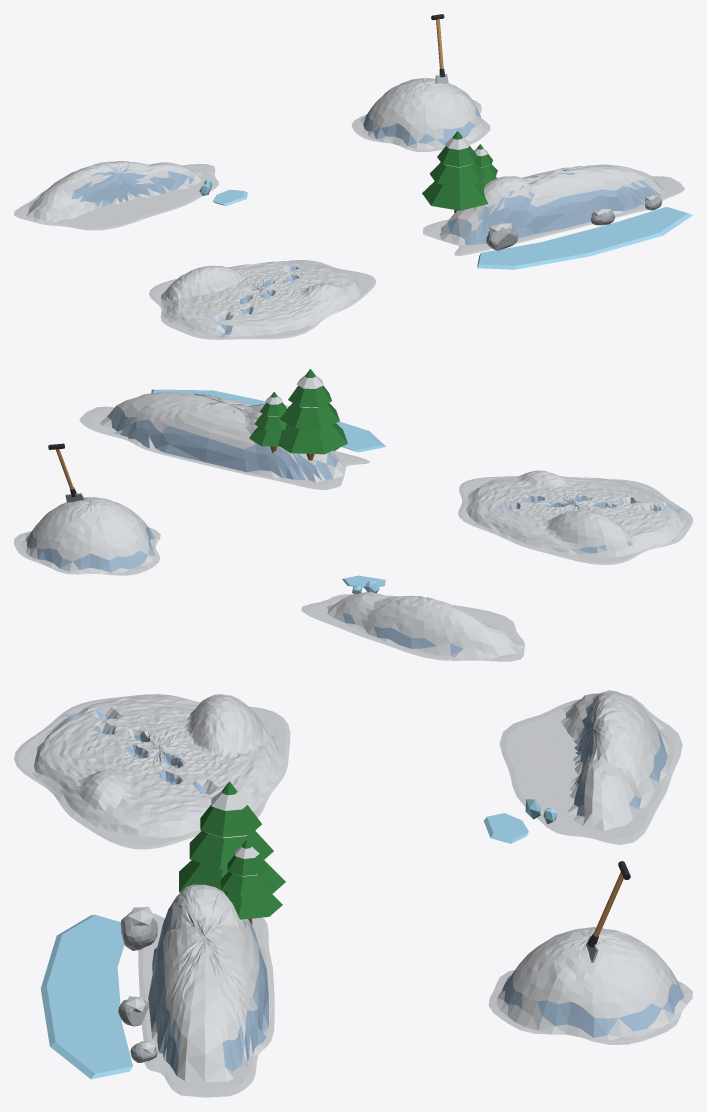
The model's file is low-poly-snow-drift-set.glb.
The picture shows the model from 3 angles, top to bottom: view 1: azimuth 30°, elevation 25°; view 2: azimuth 150°, elevation 25°; view 3: azimuth 270°, elevation 25°; orthographic projection. The views are drawn at different scales.
Visible parts, largest first — view 1: SnowPile_Footprints, SnowBank_Edge, SnowDrift_Curved, SnowMound_Shovel, Bank_FrozenPond, Bank_Pine, Bank_Stone0, Bank_PineSmall; view 2: SnowPile_Footprints, SnowBank_Edge, SnowDrift_Curved, SnowMound_Shovel, Bank_Pine, Bank_FrozenPond, Bank_PineSmall, Shovel; view 3: SnowPile_Footprints, SnowBank_Edge, SnowDrift_Curved, SnowMound_Shovel, Bank_FrozenPond, Bank_Pine, Bank_PineSmall, Drift_IcePatch, Bank_Stone0, Shovel.
Part boxes in pixels (x1,y1,x2,y2): SnowPile_Footprints: (149, 260, 375, 339); SnowBank_Edge: (423, 164, 684, 255); SnowDrift_Curved: (14, 161, 218, 230); SnowMound_Shovel: (351, 78, 490, 151); Bank_FrozenPond: (477, 207, 692, 269); Bank_Pine: (422, 131, 487, 213); Bank_Stone0: (486, 227, 517, 250); Bank_PineSmall: (474, 144, 497, 184); SnowPile_Footprints: (458, 470, 692, 564); SnowBank_Edge: (79, 392, 370, 489); SnowDrift_Curved: (301, 592, 524, 661); SnowMound_Shovel: (14, 497, 160, 575); Bank_Pine: (278, 369, 347, 460); Bank_FrozenPond: (151, 389, 385, 452); Bank_PineSmall: (249, 391, 286, 452); Shovel: (48, 443, 84, 502); SnowPile_Footprints: (14, 694, 290, 849); SnowBank_Edge: (138, 884, 274, 1097); SnowDrift_Curved: (499, 690, 682, 844); SnowMound_Shovel: (488, 927, 692, 1044); Bank_FrozenPond: (40, 914, 132, 1079); Bank_Pine: (179, 781, 285, 893); Bank_PineSmall: (220, 840, 282, 924); Drift_IcePatch: (484, 813, 528, 843); Bank_Stone0: (120, 911, 157, 950); Shovel: (586, 861, 630, 962).
Bounding box in the file's own units: 41.96 × 7.42 × 29.74.
